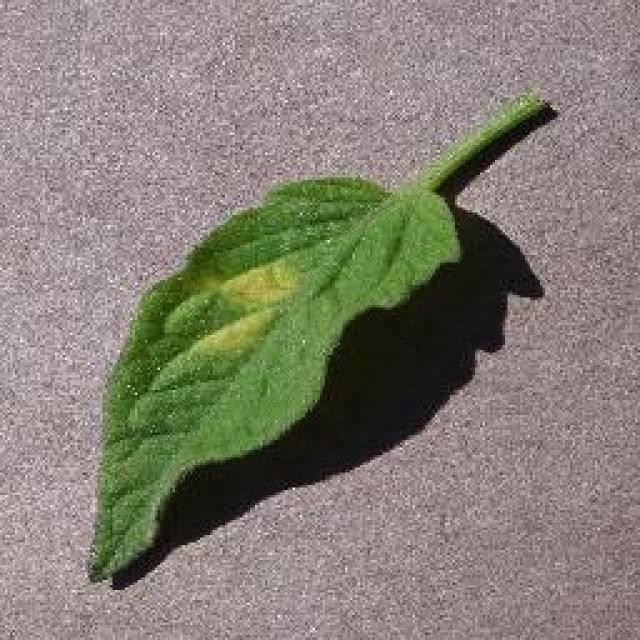leaf mold: (84, 95, 548, 580)
